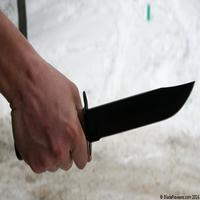knife: (2, 79, 199, 169)
